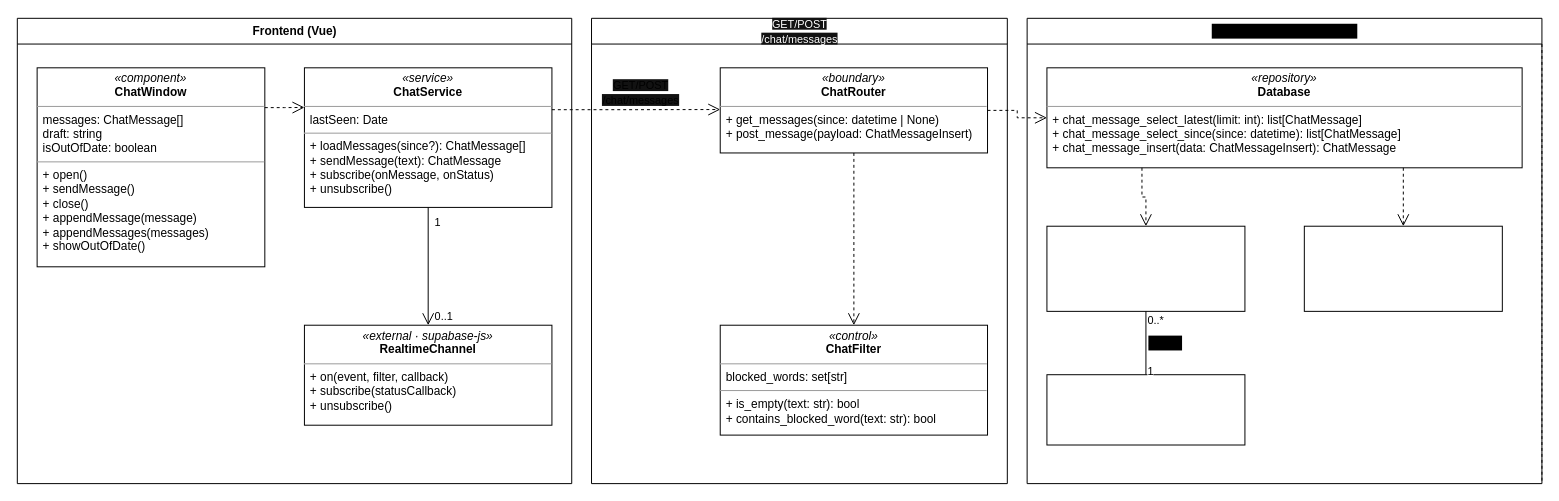
Some shapes in this 1559 by 501 pixel diagram are drawn without their labels. The shapes that lost their labels are listed below. From the top down, each one's centre as x and y in pixels, then its label:
At (x=1145, y=268): "«entity» ChatMessage text: str created_at: datetime".
At (x=1402, y=268): "«schema» ChatMessageInsert text: str sender_id: UUID".
At (x=1145, y=409): "«entity» Profile display_name: str".
